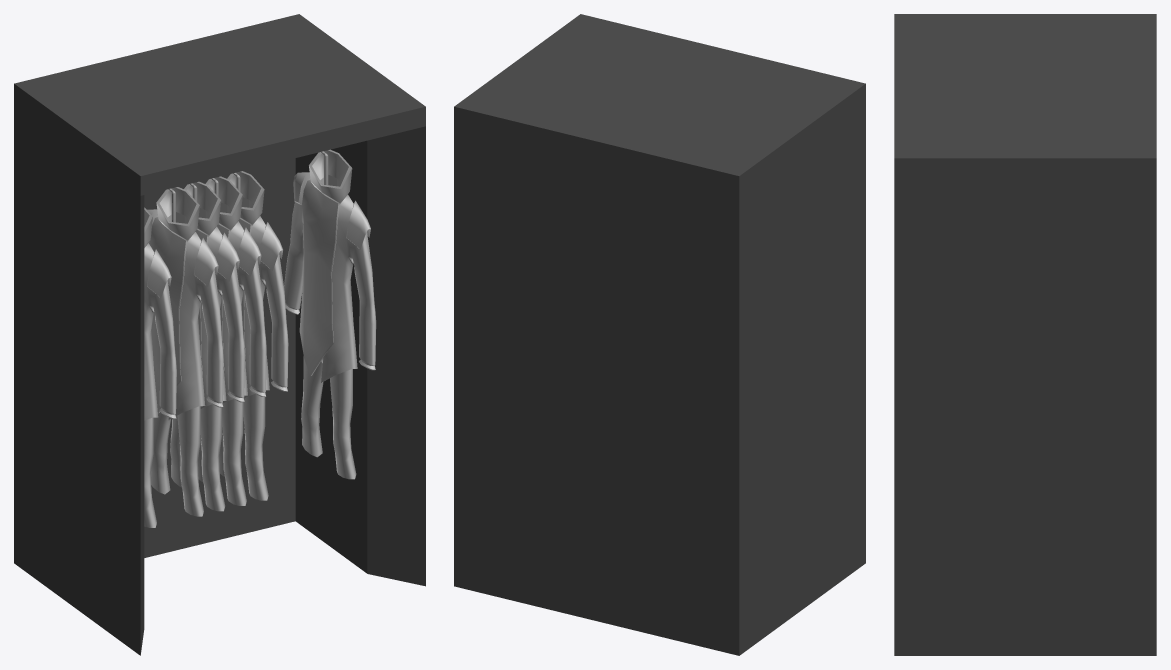
The model's file is Orellian_Closet_01.fbx.
The picture shows the model from 3 angles, left to right: view 1: azimuth 30°, elevation 25°; view 2: azimuth 150°, elevation 25°; view 3: azimuth 270°, elevation 25°; orthographic projection. The views are drawn at different scales.
Visible parts, largest first — view 1: Orellian_Closet_01; view 2: Orellian_Closet_01; view 3: Orellian_Closet_01.
Boxes of the visible parts, <box> form: Orellian_Closet_01: <box>14,14,425,655</box>; Orellian_Closet_01: <box>454,14,865,655</box>; Orellian_Closet_01: <box>894,14,1156,655</box>.
Bounding box in the file's own units: 2.11 × 3.4 × 1.62.
